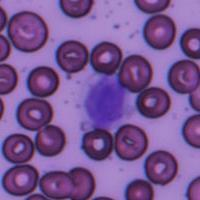L: (83, 75, 131, 130)
